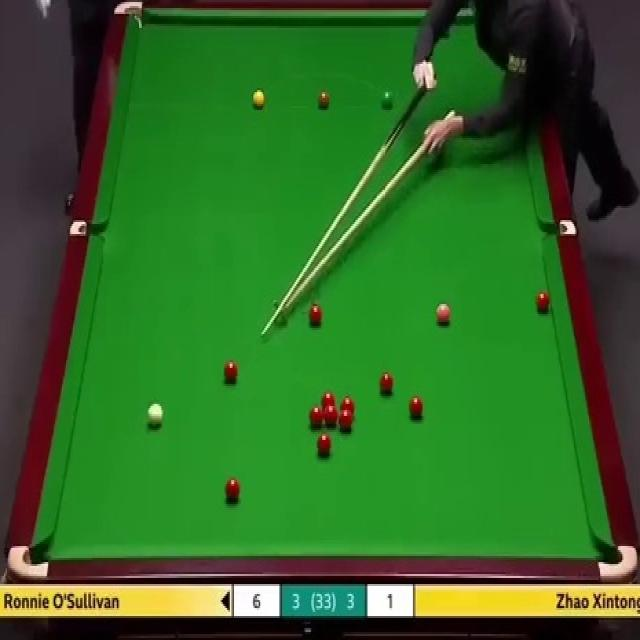pocket: (597, 543, 639, 585), (6, 542, 49, 578), (112, 0, 146, 31), (70, 221, 106, 237), (541, 220, 576, 235)
